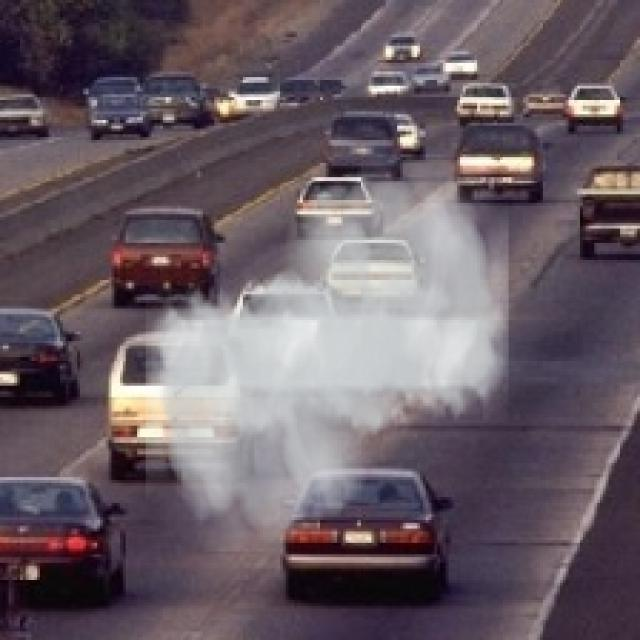smoke: (146, 154, 508, 552)
